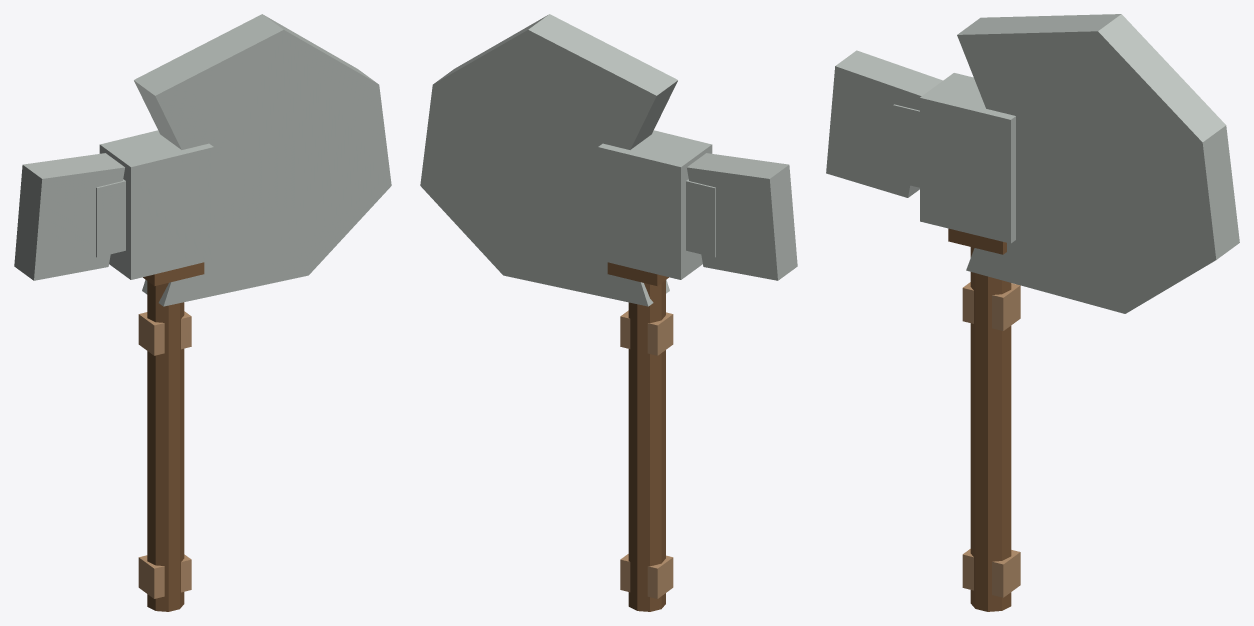
Rendered from stoneAxe.glb.
3 renders of one model, left to right at view 1: azimuth 30°, elevation 25°; view 2: azimuth 150°, elevation 25°; view 3: azimuth 330°, elevation 25°, orthographic. The views are drawn at different scales.
Visible parts, largest first — view 1: AxeBlade, AxeEye, Handle, AxePoll, AxeHeadBridge, GripWrapHigh, GripWrapLow, ToolHeadSocket; view 2: AxeBlade, AxeEye, Handle, AxePoll, AxeHeadBridge, GripWrapLow, GripWrapHigh, ToolHeadSocket; view 3: AxeBlade, AxeEye, Handle, AxePoll, AxeHeadBridge, GripWrapLow, GripWrapHigh, ToolHeadSocket.
Boxes of the visible parts, x1=… form: AxeBlade: x1=134, y1=14, x2=391, y2=306; AxeEye: x1=99, y1=130, x2=213, y2=279; Handle: x1=147, y1=281, x2=184, y2=611; AxePoll: x1=14, y1=153, x2=124, y2=280; AxeHeadBridge: x1=96, y1=140, x2=296, y2=257; GripWrapHigh: x1=138, y1=311, x2=191, y2=355; GripWrapLow: x1=138, y1=554, x2=191, y2=598; ToolHeadSocket: x1=143, y1=262, x2=204, y2=285; AxeBlade: x1=420, y1=14, x2=677, y2=306; AxeEye: x1=598, y1=130, x2=712, y2=279; Handle: x1=628, y1=280, x2=665, y2=611; AxePoll: x1=687, y1=153, x2=797, y2=280; AxeHeadBridge: x1=515, y1=140, x2=715, y2=257; GripWrapLow: x1=620, y1=554, x2=673, y2=598; GripWrapHigh: x1=620, y1=310, x2=673, y2=355; ToolHeadSocket: x1=607, y1=262, x2=668, y2=285; AxeBlade: x1=957, y1=14, x2=1239, y2=313; AxeEye: x1=920, y1=73, x2=1015, y2=243; Handle: x1=970, y1=247, x2=1011, y2=611; AxePoll: x1=826, y1=50, x2=942, y2=197; AxeHeadBridge: x1=893, y1=104, x2=1111, y2=234; GripWrapLow: x1=962, y1=549, x2=1020, y2=597; GripWrapHigh: x1=962, y1=282, x2=1020, y2=330; ToolHeadSocket: x1=948, y1=228, x2=1006, y2=254.
Bounding box in the file's own units: 0.86 × 1.28 × 0.13.
